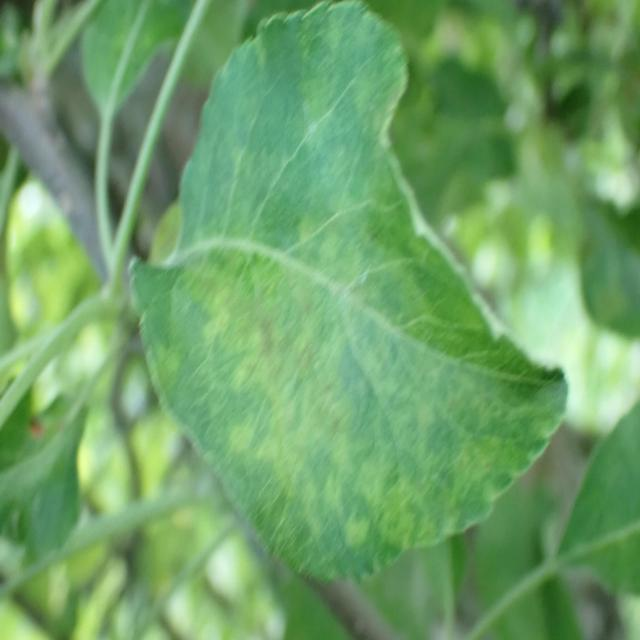scab: (172, 146, 549, 540)
